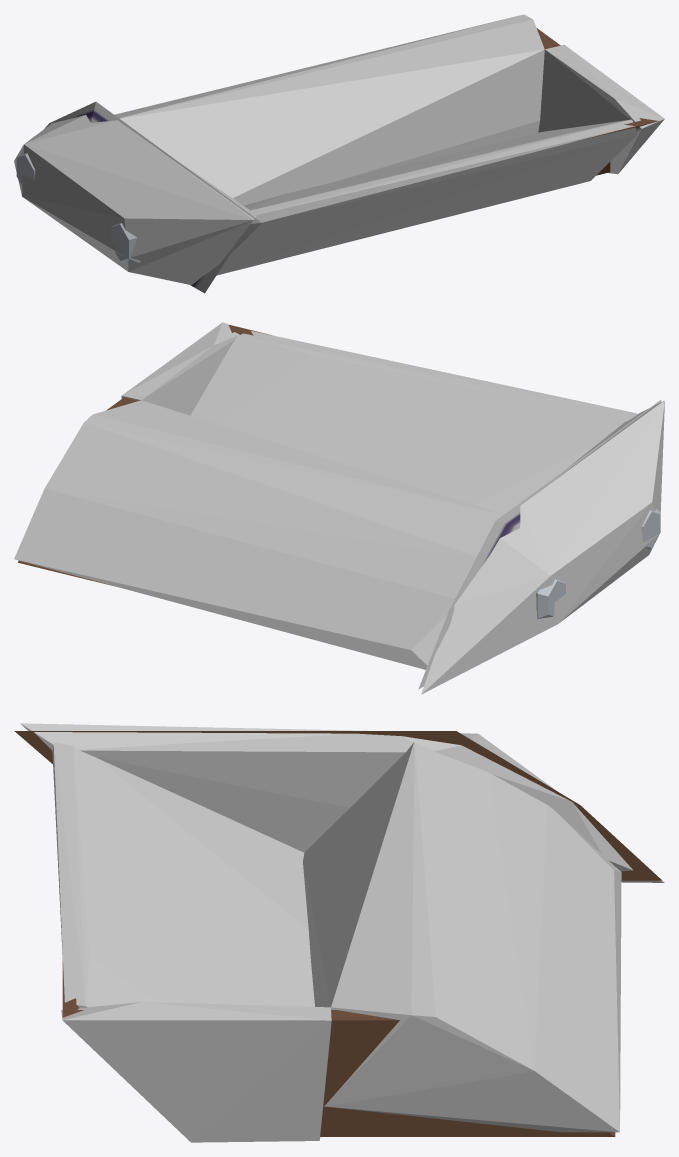
File: SM_Prop_Desk_01_Drawer_l_01.fbx
3 renders of one model, top to bottom at view 1: azimuth 30°, elevation 25°; view 2: azimuth 150°, elevation 25°; view 3: azimuth 270°, elevation 25°, orthographic. The views are drawn at different scales.
Visible parts, largest first — view 1: SM_Prop_Desk_01_Drawer_l_01_ConvexHulls, SM_Prop_Desk_01_Drawer_l_01; view 2: SM_Prop_Desk_01_Drawer_l_01_ConvexHulls, SM_Prop_Desk_01_Drawer_l_01; view 3: SM_Prop_Desk_01_Drawer_l_01_ConvexHulls, SM_Prop_Desk_01_Drawer_l_01.
Part boxes in pixels (left/top/right/bottom): SM_Prop_Desk_01_Drawer_l_01_ConvexHulls: left=14, top=14, right=664, bottom=285; SM_Prop_Desk_01_Drawer_l_01: left=16, top=28, right=662, bottom=293; SM_Prop_Desk_01_Drawer_l_01_ConvexHulls: left=14, top=322, right=664, bottom=694; SM_Prop_Desk_01_Drawer_l_01: left=18, top=324, right=661, bottom=689; SM_Prop_Desk_01_Drawer_l_01_ConvexHulls: left=20, top=723, right=664, bottom=1142; SM_Prop_Desk_01_Drawer_l_01: left=14, top=731, right=661, bottom=1136.
Size of the model in its own units: 60.75 by 52.41 by 14.04.
Materials: 2 (1 with a texture image).
